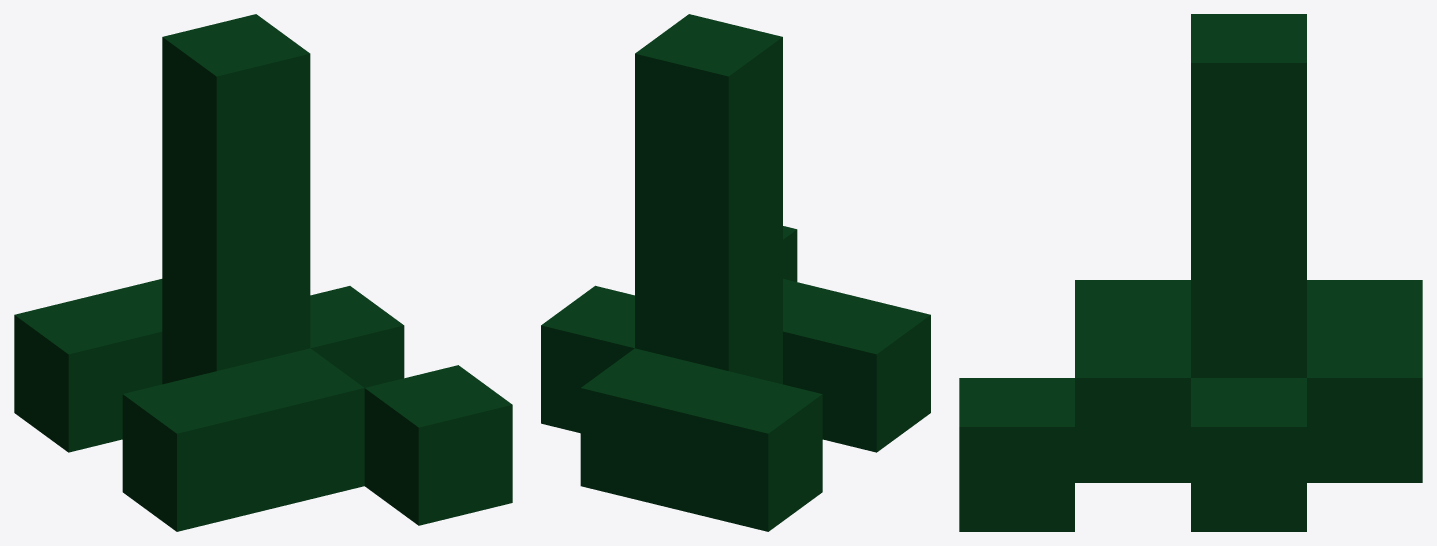
The model's file is GrassPiece6.fbx.
The picture shows the model from 3 angles, left to right: view 1: azimuth 30°, elevation 25°; view 2: azimuth 150°, elevation 25°; view 3: azimuth 270°, elevation 25°; orthographic projection. The views are drawn at different scales.
Visible parts, largest first — view 1: Matrix_Piece0_0_0_Piece1_0_1; view 2: Matrix_Piece0_0_0_Piece1_0_1; view 3: Matrix_Piece0_0_0_Piece1_0_1.
Boxes of the visible parts, bbox=[...] form: Matrix_Piece0_0_0_Piece1_0_1: bbox=[14, 14, 512, 531]; Matrix_Piece0_0_0_Piece1_0_1: bbox=[541, 14, 930, 531]; Matrix_Piece0_0_0_Piece1_0_1: bbox=[959, 14, 1422, 531].
Size of the model in its own units: 3 by 4 by 4.
Materials: 1 (1 with a texture image).
